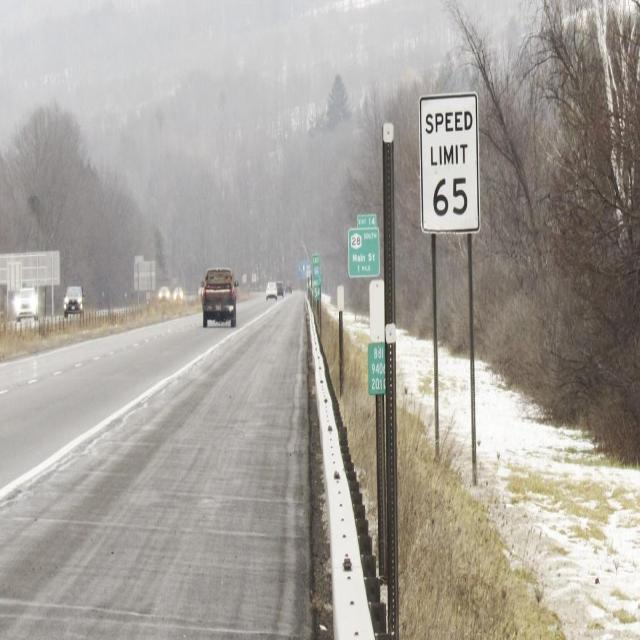speedLimit35: (418, 86, 483, 239)
